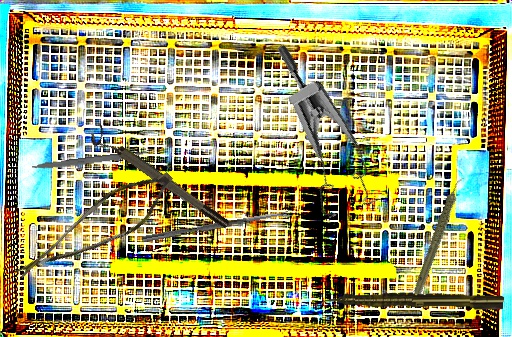Fixation Ring: (86, 123, 233, 237)
Handpiece: (390, 174, 490, 298), (321, 290, 504, 312)
Micro Scissor: (11, 146, 182, 314)
Scalpel Handle: (31, 149, 149, 173)
Speculum: (219, 41, 406, 235)
Surgical Spoon: (141, 209, 294, 244)
